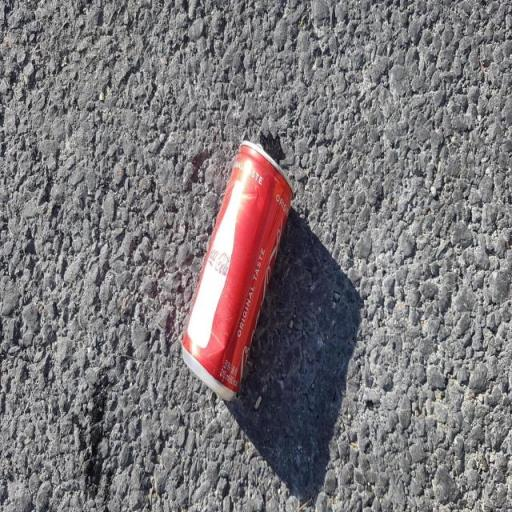metal: (170, 130, 300, 414)
